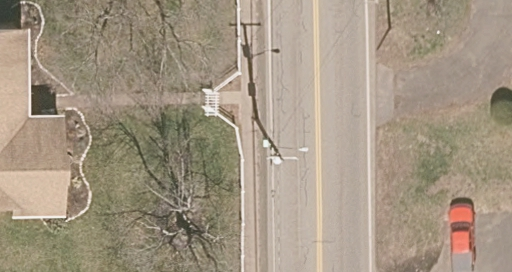DT: (250, 114, 310, 167)
